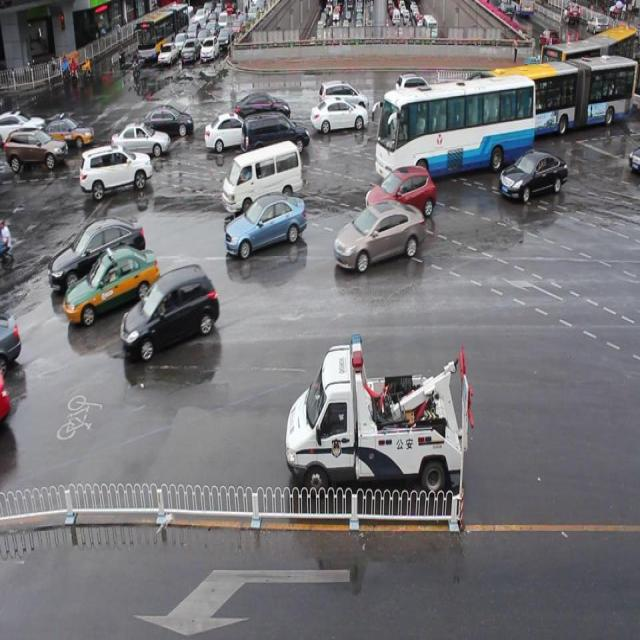bus: (286, 333, 474, 494)
car: (124, 262, 220, 358), (64, 246, 159, 324), (51, 214, 144, 291), (334, 201, 424, 268), (224, 194, 306, 255), (364, 167, 435, 222), (81, 143, 151, 195), (500, 152, 567, 198), (1, 126, 67, 172), (244, 111, 310, 153), (111, 122, 169, 158), (233, 89, 290, 124), (311, 96, 366, 130), (204, 115, 256, 150), (320, 79, 369, 115), (144, 105, 193, 138), (392, 100, 434, 136), (47, 114, 94, 146), (457, 70, 498, 105), (439, 93, 472, 132), (1, 308, 21, 369), (396, 72, 432, 105), (423, 86, 456, 118)
truck: (223, 141, 302, 211)
van: (373, 86, 535, 176), (482, 57, 640, 129)
